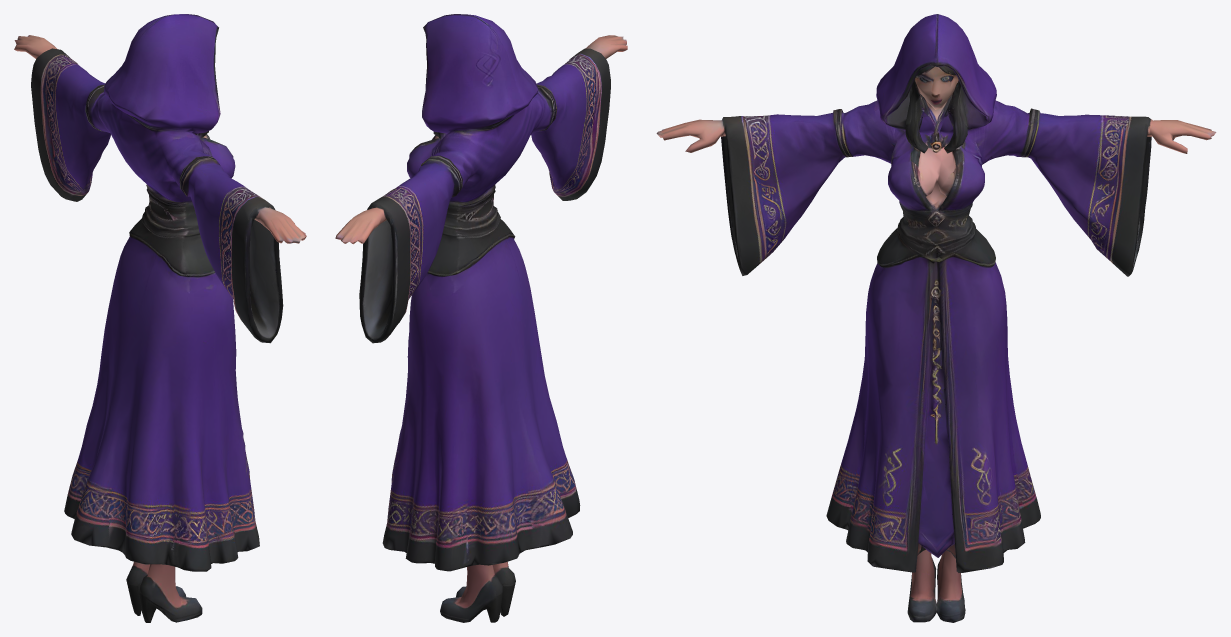
The model's file is Char_Sorcerer_F.glb.
The picture shows the model from 3 angles, left to right: view 1: azimuth 30°, elevation 25°; view 2: azimuth 150°, elevation 25°; view 3: azimuth 270°, elevation 25°; orthographic projection.
Visible parts, largest first — view 1: tripo_node_47414d97-d0ca-4b52-96cf-a8ecda02792b; view 2: tripo_node_47414d97-d0ca-4b52-96cf-a8ecda02792b; view 3: tripo_node_47414d97-d0ca-4b52-96cf-a8ecda02792b.
Boxes of the visible parts, x1,y1,x2,y2 form: tripo_node_47414d97-d0ca-4b52-96cf-a8ecda02792b: [14, 14, 306, 622]; tripo_node_47414d97-d0ca-4b52-96cf-a8ecda02792b: [335, 14, 627, 622]; tripo_node_47414d97-d0ca-4b52-96cf-a8ecda02792b: [656, 14, 1216, 622].
Size of the model in its own units: 0.2821 by 1 by 0.8527.
1 material, 1 textured.
